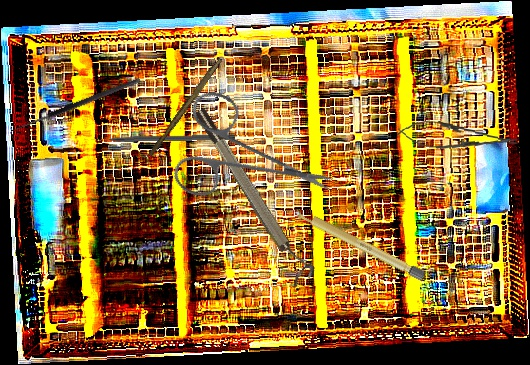Fixation Ring: (191, 101, 318, 287)
Hook Surgical: (8, 76, 144, 141), (90, 132, 236, 143)
Iris Scissors: (145, 58, 338, 252)
Needle Holder: (396, 117, 520, 157)
Scalpel Handle: (290, 205, 428, 282), (147, 55, 223, 159)
